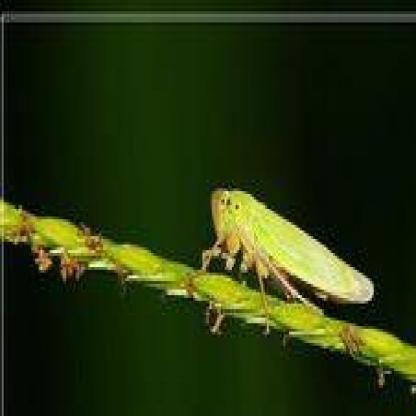Green-Leafhopper: (197, 183, 374, 317)
